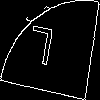L: (24, 25, 56, 75)
